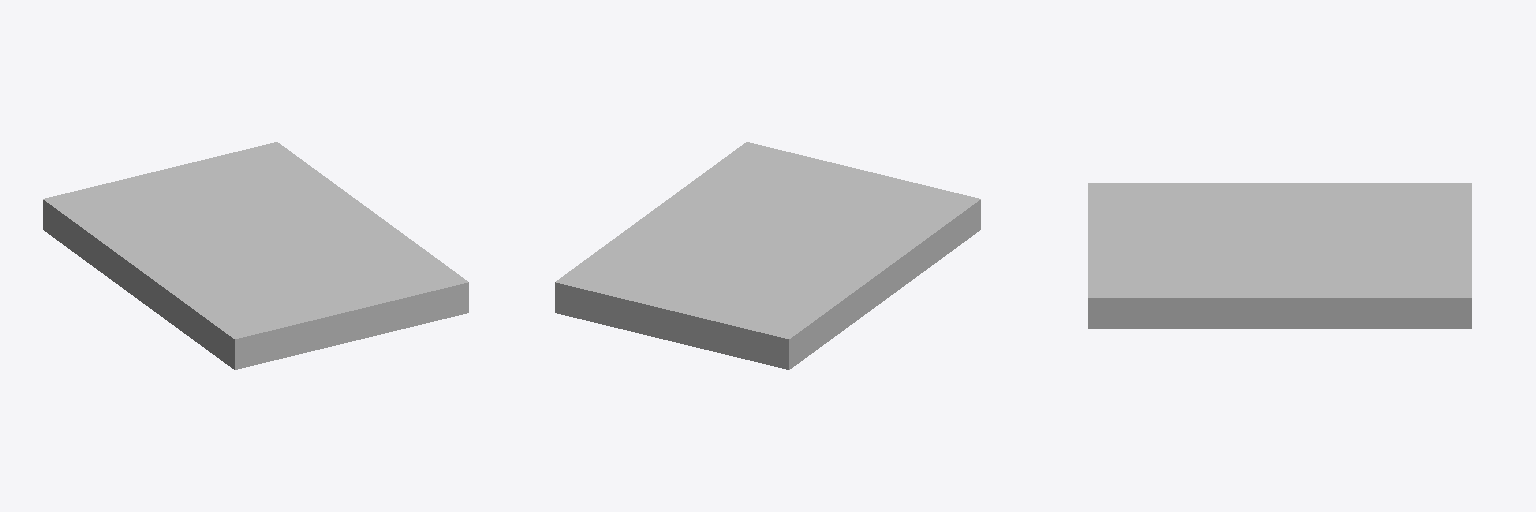
Rendered from map .obj.
The picture shows the model from 3 angles: view 1: azimuth 30°, elevation 25°; view 2: azimuth 150°, elevation 25°; view 3: azimuth 270°, elevation 25°; orthographic projection.
Visible parts, largest first — view 1: Mesh1 Model; view 2: Mesh1 Model; view 3: Mesh1 Model.
Part boxes in pixels (bbox=[...]): Mesh1 Model: bbox=[43, 142, 468, 369]; Mesh1 Model: bbox=[555, 142, 980, 369]; Mesh1 Model: bbox=[1088, 183, 1471, 328].
Bounding box in the file's own units: 24 × 3 × 34.